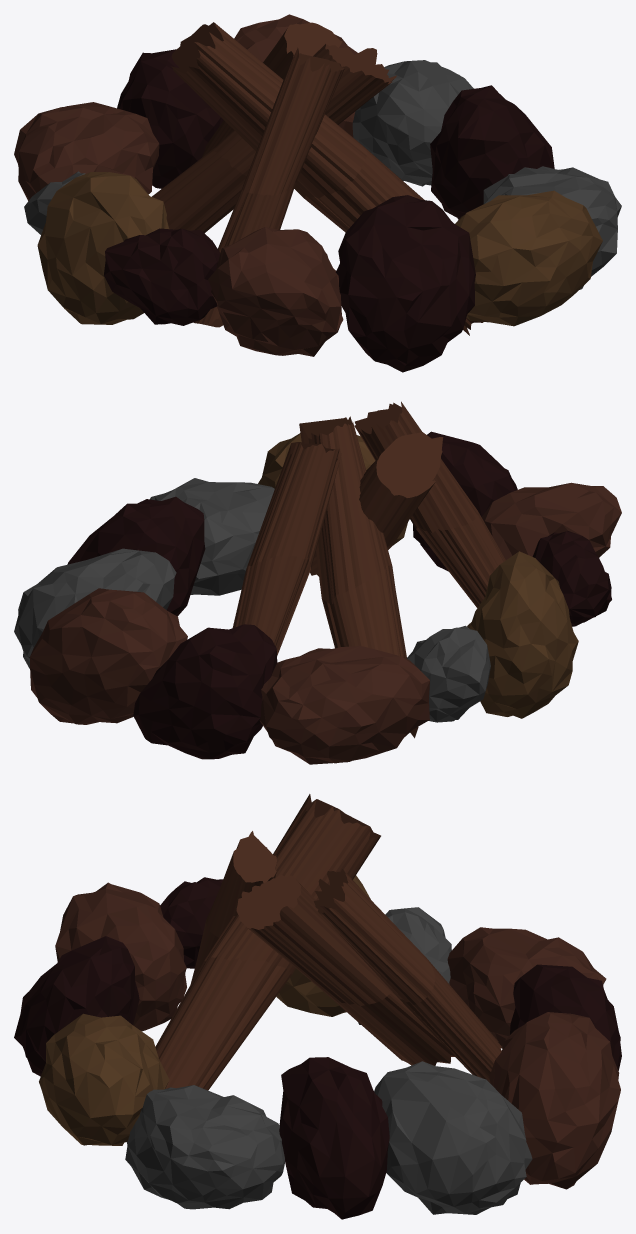
File: Fire2.fbx
3 renders of one model, top to bottom at view 1: azimuth 30°, elevation 25°; view 2: azimuth 150°, elevation 25°; view 3: azimuth 270°, elevation 25°, orthographic. The views are drawn at different scales.
Parts seen in each view (by area): view 1: Icosphere, Cylinder.003; view 2: Icosphere, Cylinder.003; view 3: Icosphere, Cylinder.003.
Boxes of the visible parts, box(x1,y1,x2,y2) form: Icosphere: box(14, 14, 621, 372); Cylinder.003: box(152, 22, 483, 335); Icosphere: box(14, 431, 621, 764); Cylinder.003: box(232, 401, 505, 738); Icosphere: box(14, 875, 621, 1219); Cylinder.003: box(155, 794, 501, 1090).
Size of the model in its own units: 182 by 95.9 by 191.
